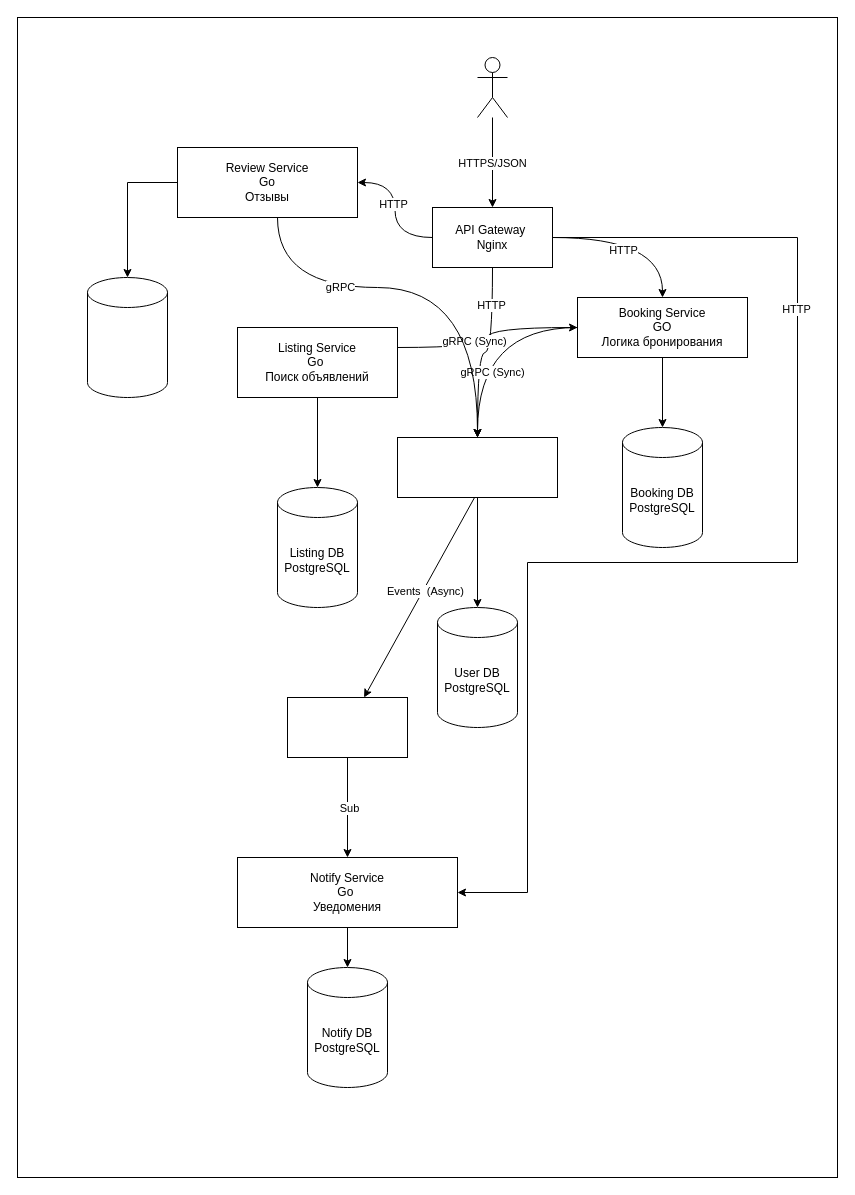
Image size: 855x1195. Some labels were removed from this diagram. Here are the shapes that lost their labels. From the top down, the centre of each, then its label:
At pixel 492 87: "Пользователь".
At pixel 127 337: "Review DB PostgreSQL".
At pixel 477 467: "User Service Go/Node.js Профили".
At pixel 347 727: "Message Broker Apache Kafka".
